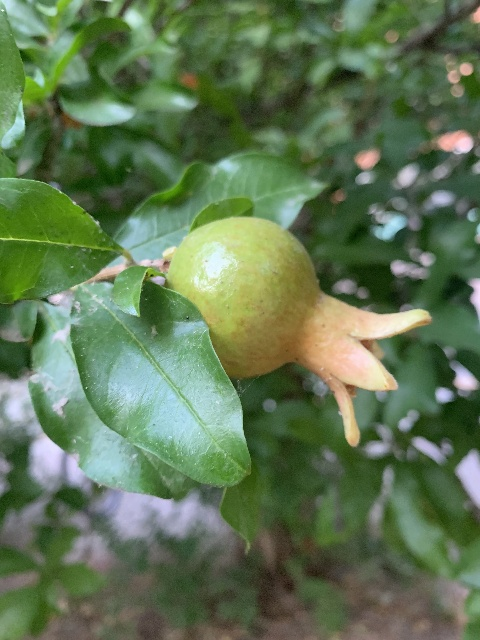mid-growth: (165, 217, 431, 446)
